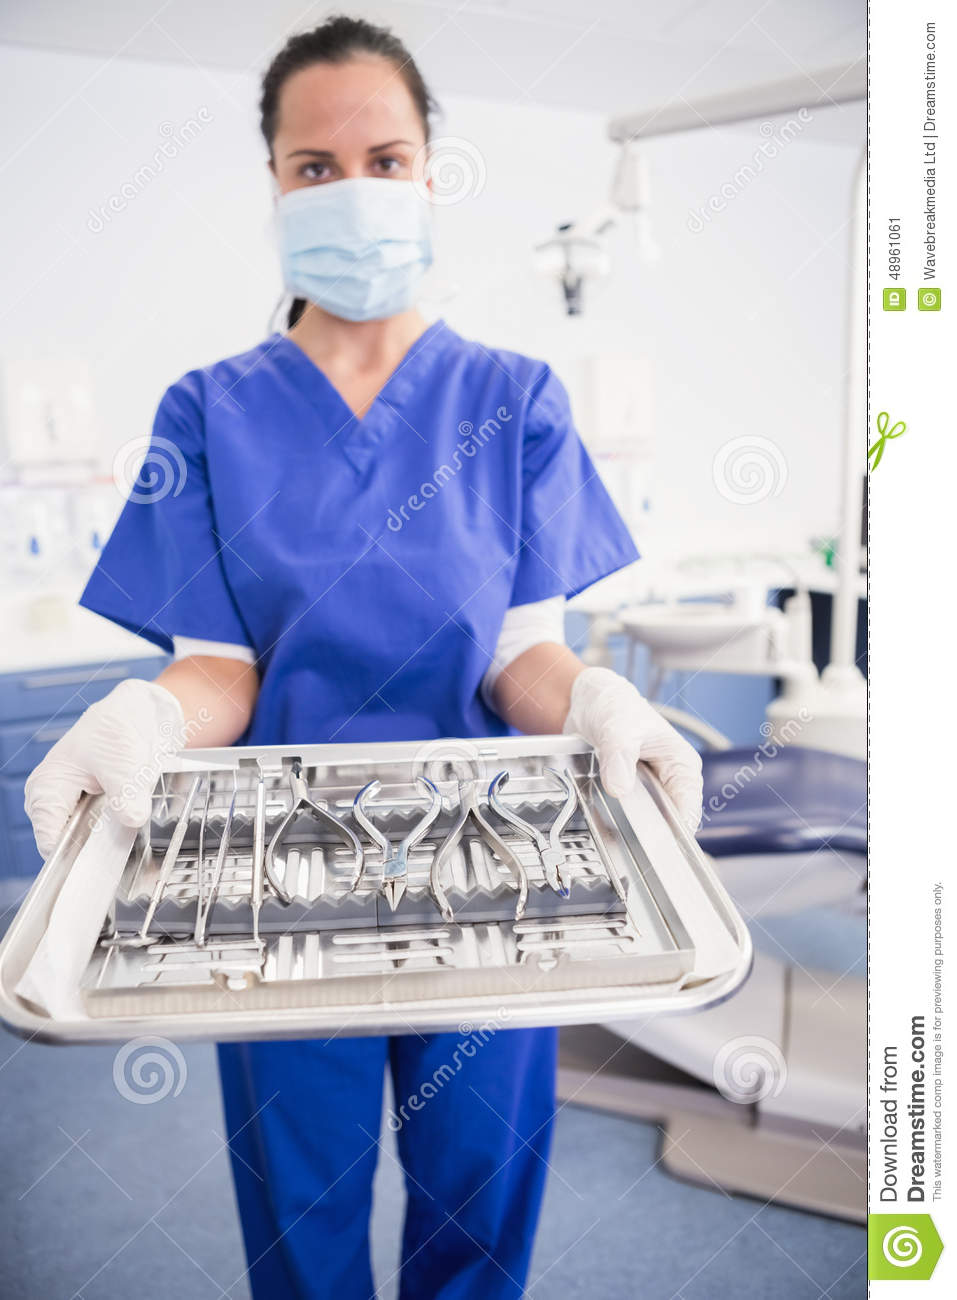mask: (268, 181, 442, 331)
